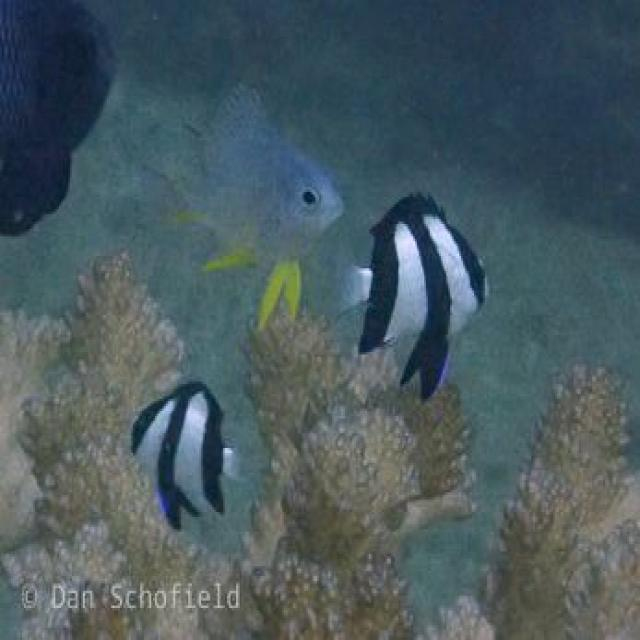Three_striped DasmselFish: (334, 189, 489, 407), (124, 380, 240, 531)
